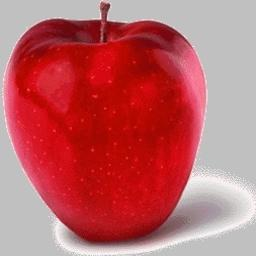apple: (2, 6, 207, 242)
